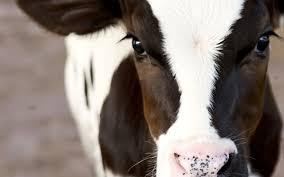cow: (17, 2, 284, 177)
